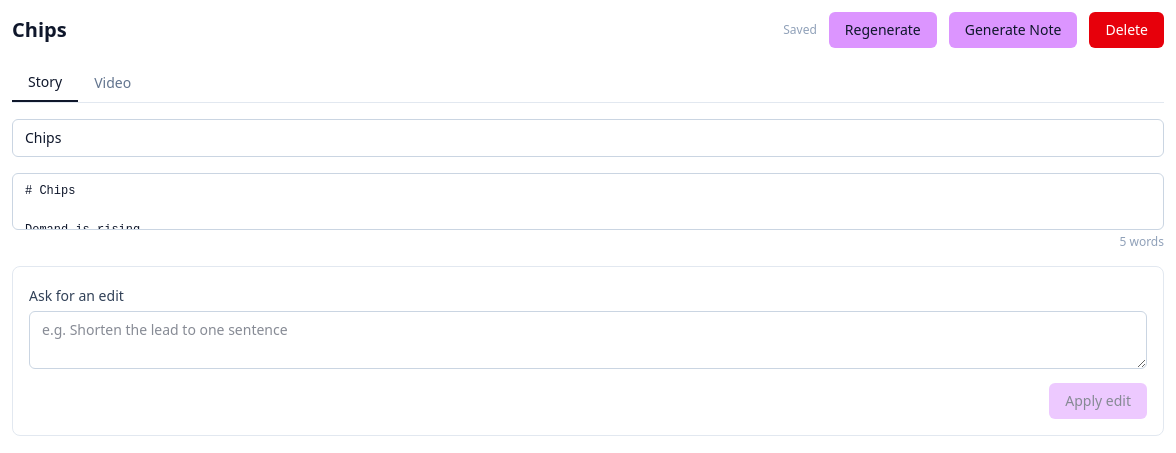
Scenario: StoryEditor › switches to the Video tab when clicked
The image size is (1176, 453).
Click the button "Video" at {"x": 113, "y": 83}, box [78,64,147,102]
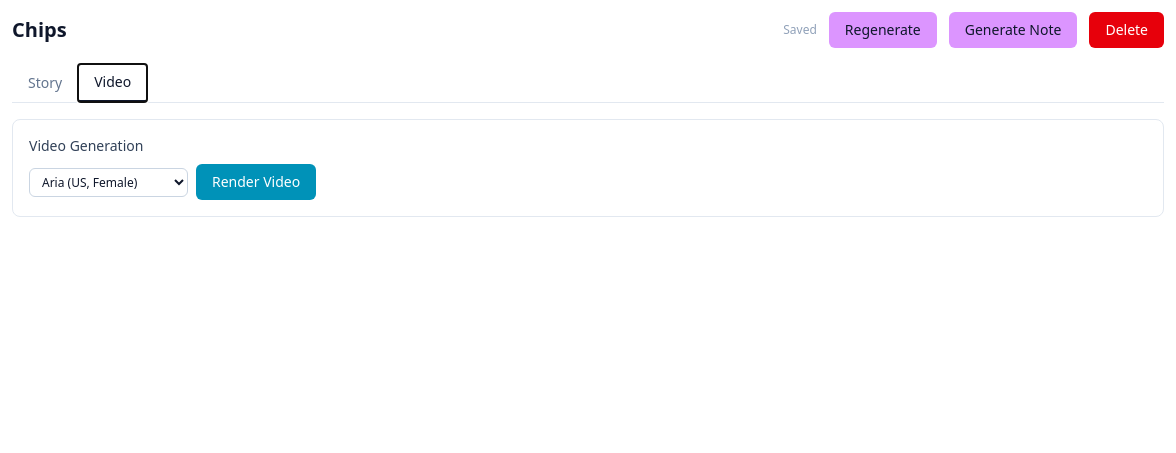
Result: the heading "Video Generation" is shown at [29,136,143,155]
